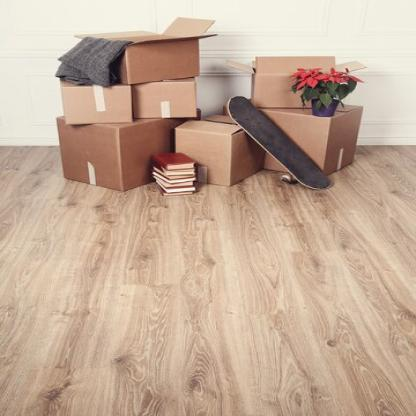box: (220, 106, 332, 175), (56, 117, 123, 191), (127, 38, 200, 85), (174, 129, 232, 186), (254, 74, 336, 108), (63, 86, 132, 124), (133, 82, 198, 118)
